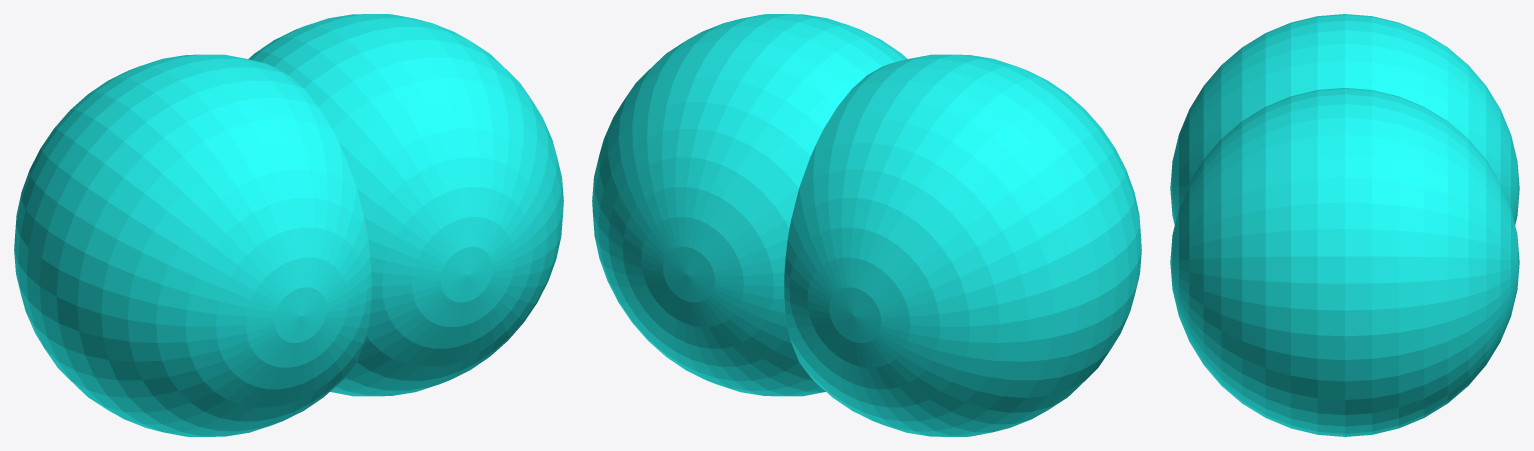
The model's file is Xray+cylinder+phi 1.dae.
3 views of the same model, side by side, from view 1: azimuth 30°, elevation 25°; view 2: azimuth 150°, elevation 25°; view 3: azimuth 270°, elevation 25° (orthographic). The views are drawn at different scales.
Parts seen in each view (by area): view 1: group_3, group_1; view 2: group_3, group_1; view 3: group_1, group_3.
Boxes of the visible parts, left/top/right/bottom form: group_3: left=14, top=54, right=371, bottom=436; group_1: left=248, top=14, right=563, bottom=396; group_3: left=784, top=54, right=1141, bottom=436; group_1: left=592, top=14, right=907, bottom=396; group_1: left=1170, top=88, right=1519, bottom=436; group_3: left=1170, top=14, right=1519, bottom=224.
Bounding box in the file's own units: 3000 × 2000 × 2000.
